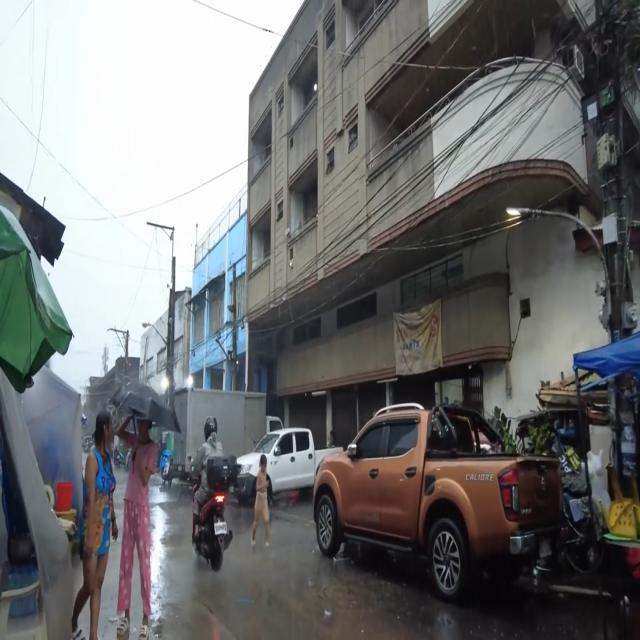full: (204, 416, 217, 442)
